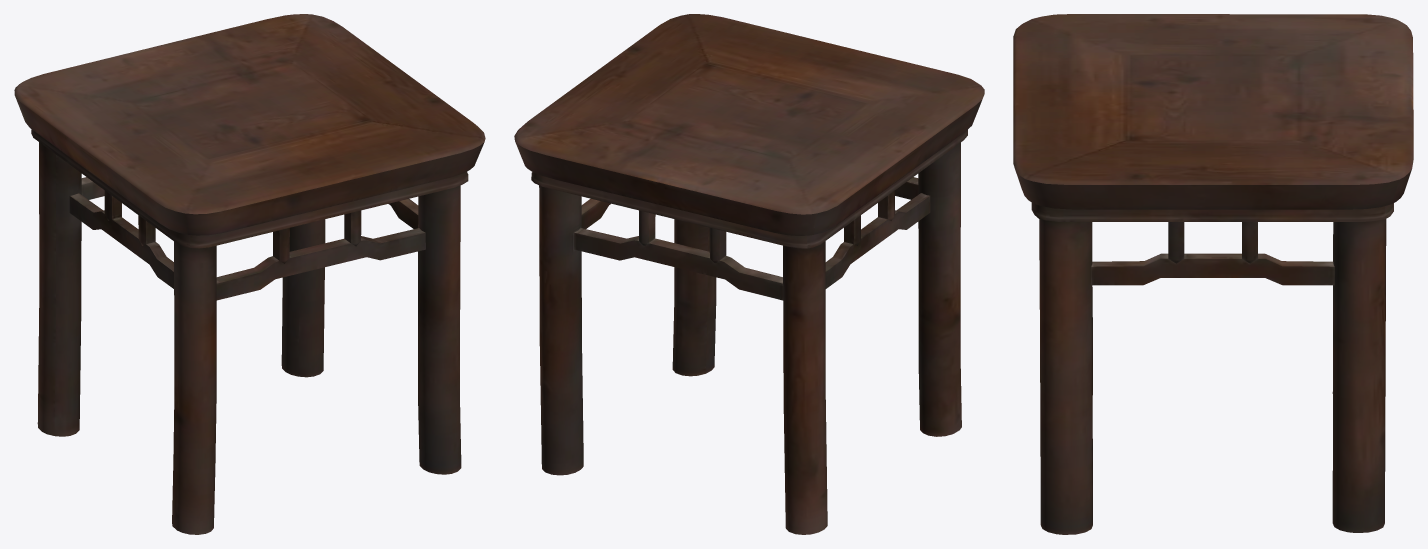
File: ph-chinese-stool.glb
The picture shows the model from 3 angles, left to right: view 1: azimuth 30°, elevation 25°; view 2: azimuth 150°, elevation 25°; view 3: azimuth 270°, elevation 25°; orthographic projection. The views are drawn at different scales.
Parts seen in each view (by area): view 1: chinese_stool; view 2: chinese_stool; view 3: chinese_stool.
Part boxes in pixels (bbox=[...]): chinese_stool: bbox=[14, 14, 485, 534]; chinese_stool: bbox=[514, 14, 984, 534]; chinese_stool: bbox=[1013, 14, 1413, 534].
Size of the model in its own units: 1 by 1 by 1.
Materials: 1 (1 with a texture image).
